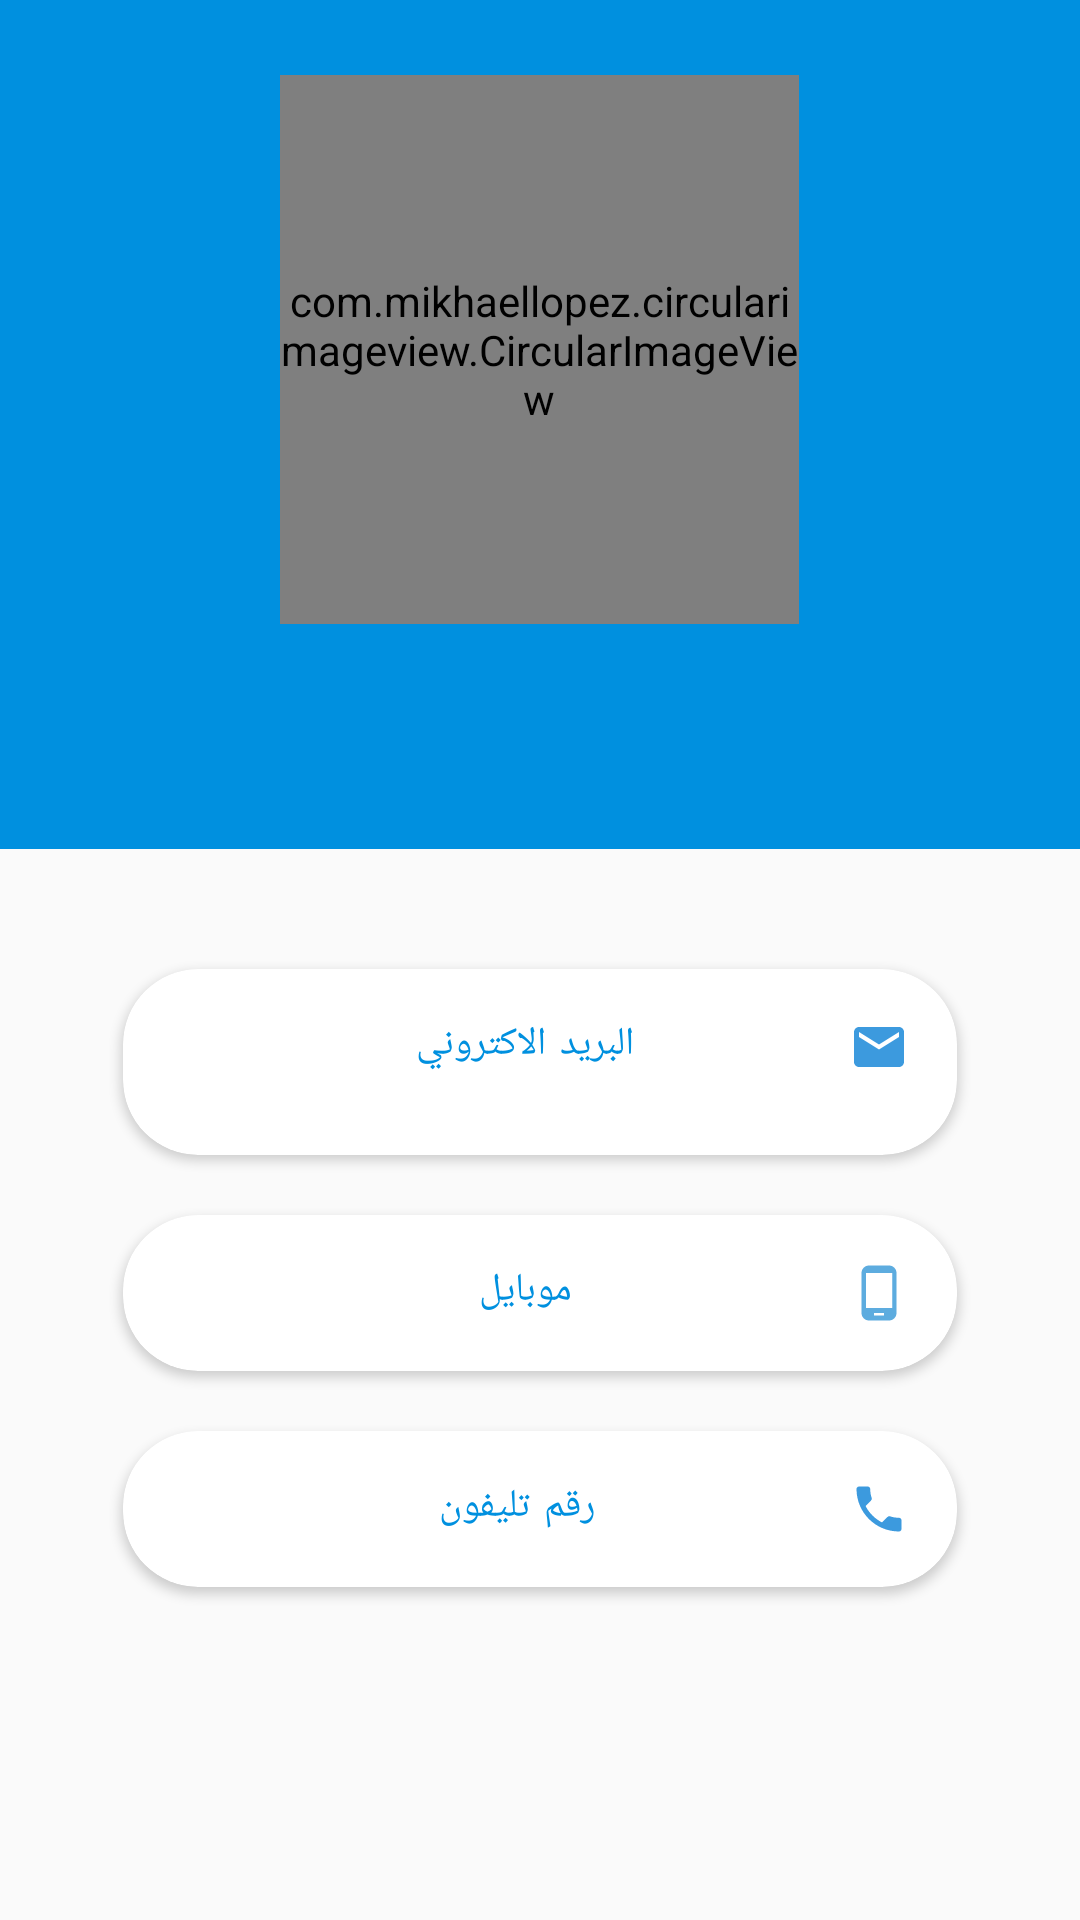

Icons on this 1080px×1920px Android screen, each with its box as region(x1, y1, x2, y2):
email: region(854, 1027, 904, 1067)
phone: region(856, 1486, 902, 1532)
phone android: region(861, 1265, 897, 1321)
